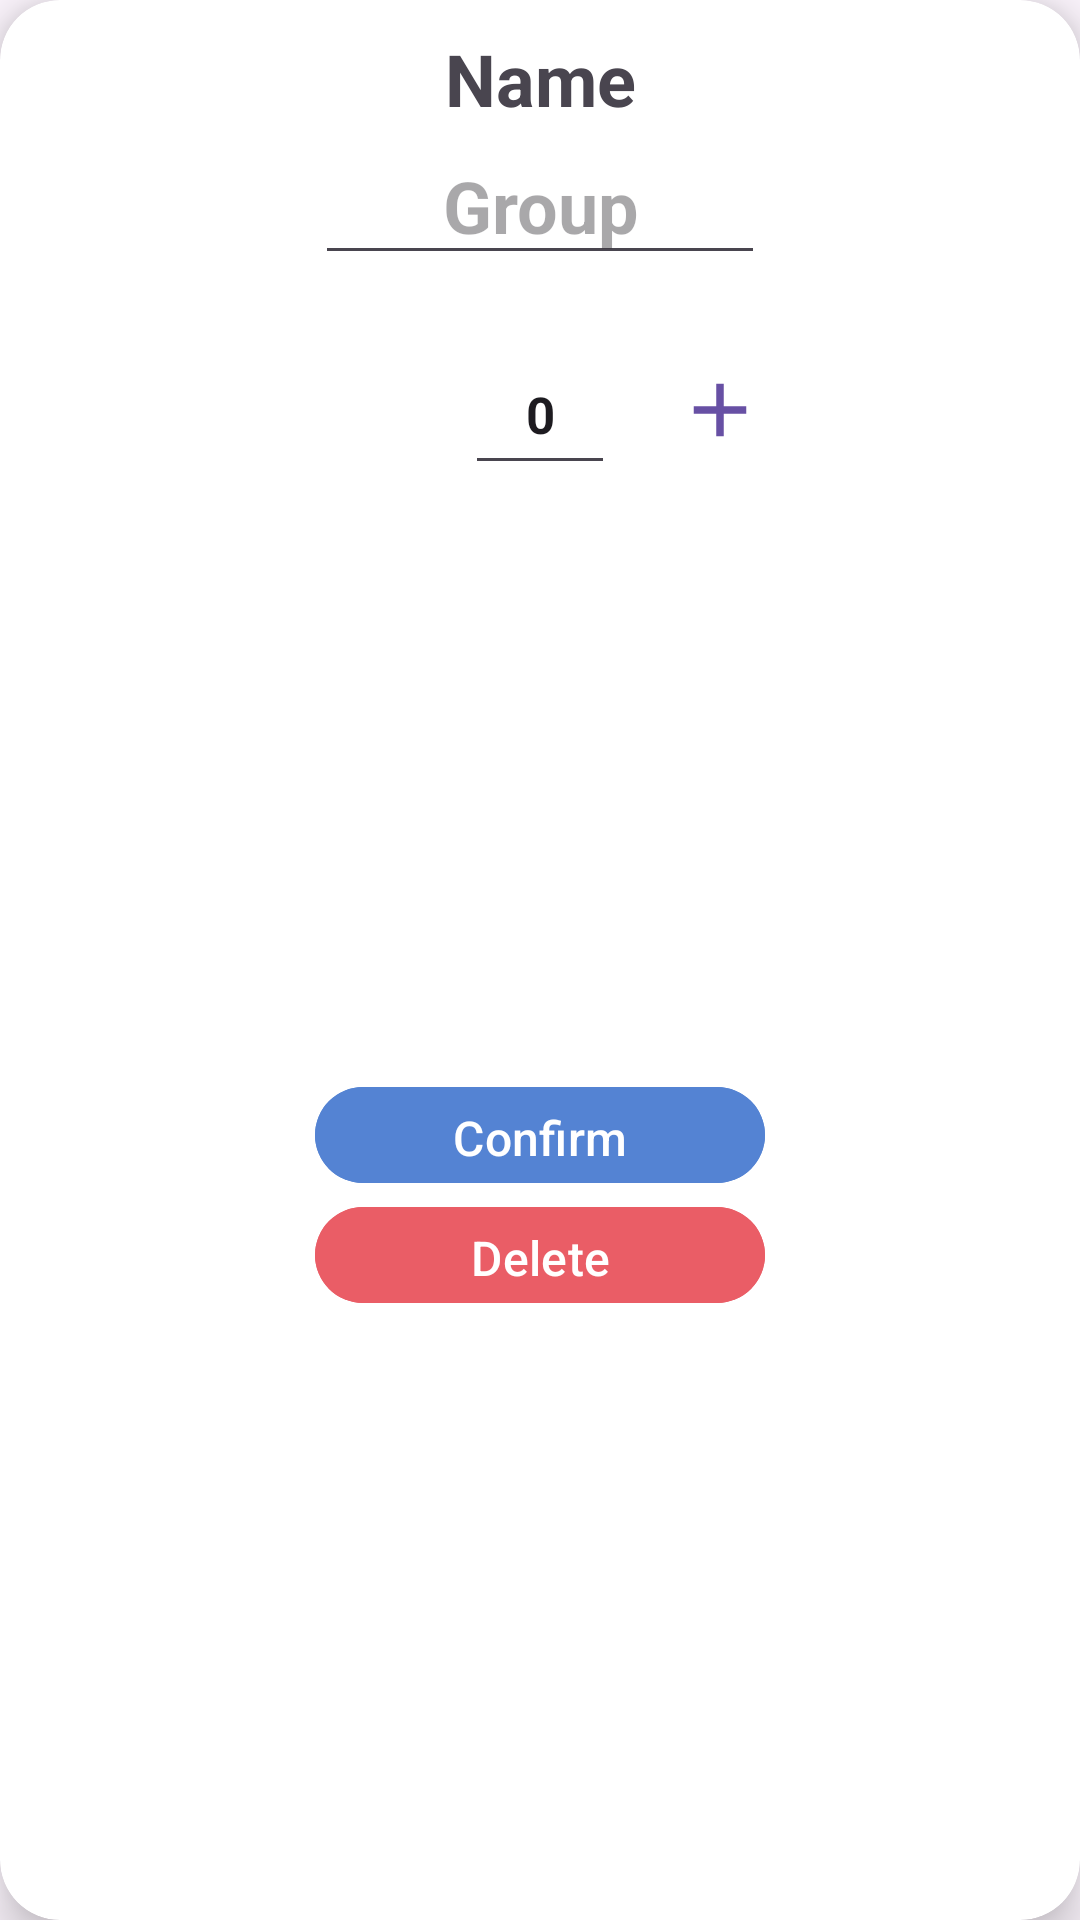

Where icons sit on this 1080 x 1920 app screen, as (x1, y1, x2, y2):
add: (693, 383, 747, 437)
